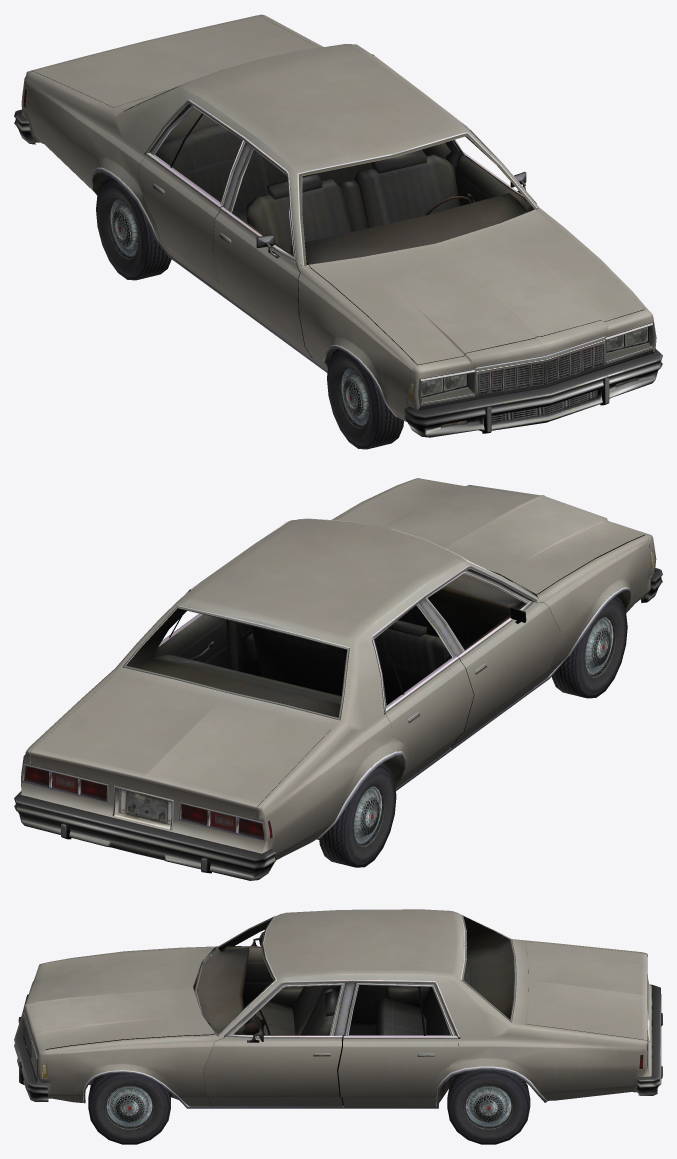
Rendered from 1979_chevrolet_impala.glb.
3 renders of one model, top to bottom at view 1: azimuth 30°, elevation 25°; view 2: azimuth 150°, elevation 25°; view 3: azimuth 270°, elevation 25°, orthographic. The views are drawn at different scales.
Parts seen in each view (by area): view 1: Paint, civilcarRemeshNew_bonnet, civilcarRemeshNew_trunk, Wheel_1, Wheel_3; view 2: Paint, civilcarRemeshNew_trunk, civilcarRemeshNew_bonnet, Wheel_3, Wheel_1; view 3: Paint, civilcarRemeshNew_bonnet, civilcarRemeshNew_trunk, Wheel_2, Wheel.
Boxes of the visible parts, bbox=[...] form: Paint: bbox=[14, 14, 662, 437]; civilcarRemeshNew_bonnet: bbox=[309, 209, 644, 365]; civilcarRemeshNew_trunk: bbox=[31, 15, 318, 107]; Wheel_1: bbox=[327, 348, 403, 449]; Wheel_3: bbox=[96, 177, 171, 280]; Paint: bbox=[14, 478, 662, 880]; civilcarRemeshNew_trunk: bbox=[30, 676, 330, 819]; civilcarRemeshNew_bonnet: bbox=[339, 479, 644, 594]; Wheel_3: bbox=[319, 764, 396, 867]; Wheel_1: bbox=[551, 596, 627, 698]; Paint: bbox=[14, 909, 662, 1108]; civilcarRemeshNew_bonnet: bbox=[35, 947, 214, 1049]; civilcarRemeshNew_trunk: bbox=[525, 941, 647, 1040]; Wheel_2: bbox=[447, 1070, 530, 1144]; Wheel: bbox=[88, 1072, 170, 1144].
Bounding box in the file's own units: 2.08 × 1.51 × 5.57.
Materials: 2 (2 with a texture image).
